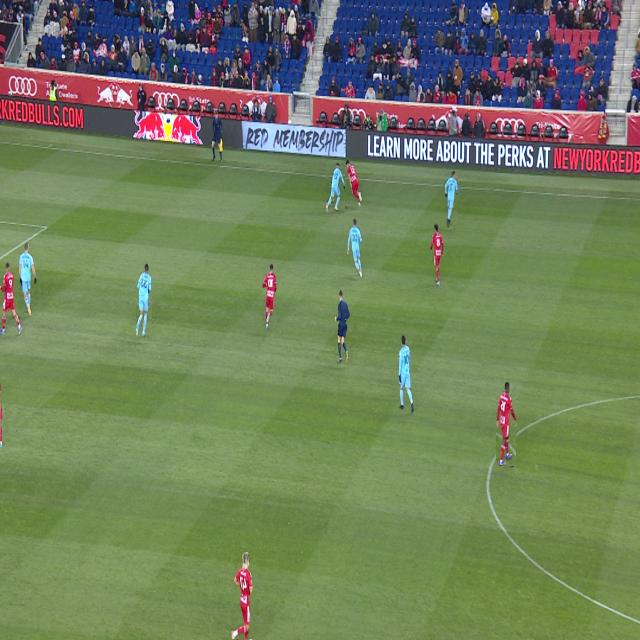football: (337, 198, 339, 203)
player: (231, 553, 253, 639), (0, 262, 22, 335), (497, 383, 516, 466), (19, 243, 37, 316), (398, 335, 414, 413), (136, 264, 152, 337), (262, 264, 277, 330), (326, 163, 345, 213), (347, 218, 362, 278), (431, 224, 443, 286), (445, 171, 458, 228), (346, 160, 362, 206), (0, 403, 2, 449)
referee: (335, 290, 350, 363)
